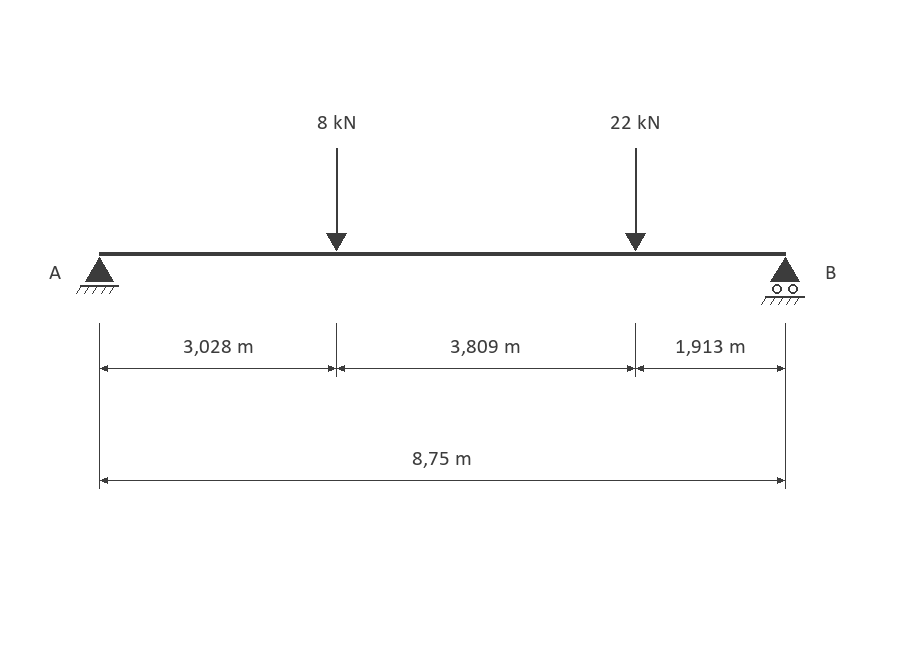pin_support: (76, 257, 119, 294)
point_load: (326, 148, 347, 251), (625, 148, 646, 251)
roller_support: (761, 257, 805, 305)
